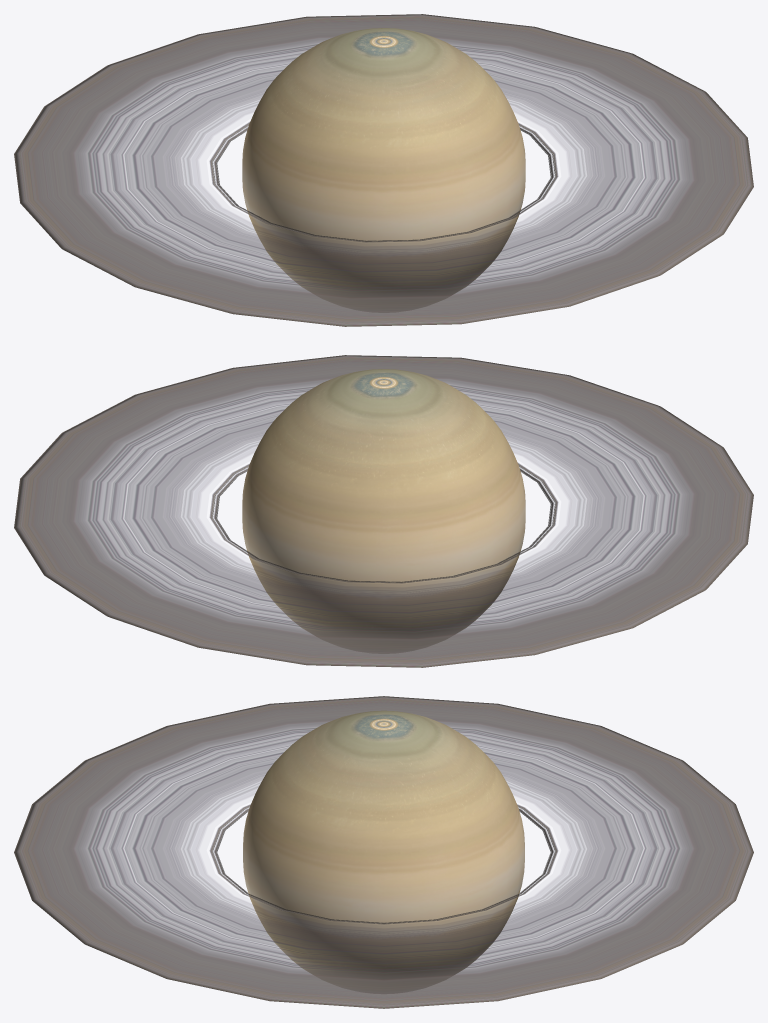
The model's file is saturno.glb.
3 views of the same model, one above another, from view 1: azimuth 30°, elevation 25°; view 2: azimuth 150°, elevation 25°; view 3: azimuth 270°, elevation 25° (orthographic).
Size of the model in its own units: 5.22 by 2 by 5.22.
2 materials, 2 textured.
